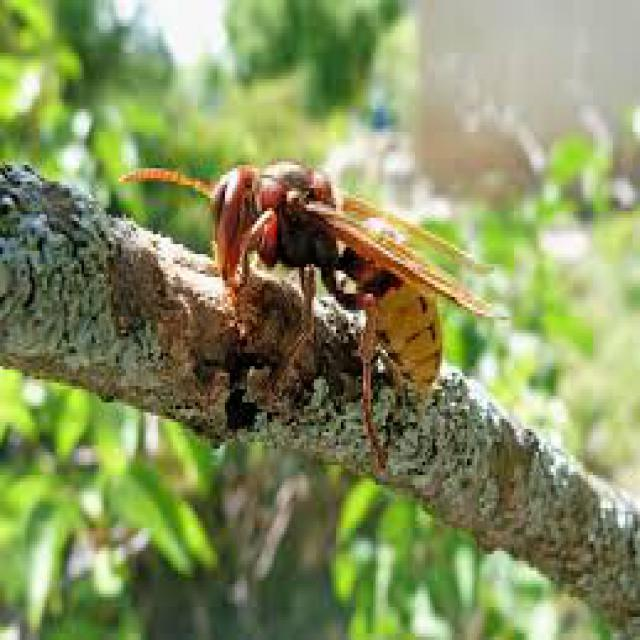Vespa Crabro: (110, 114, 506, 485)
